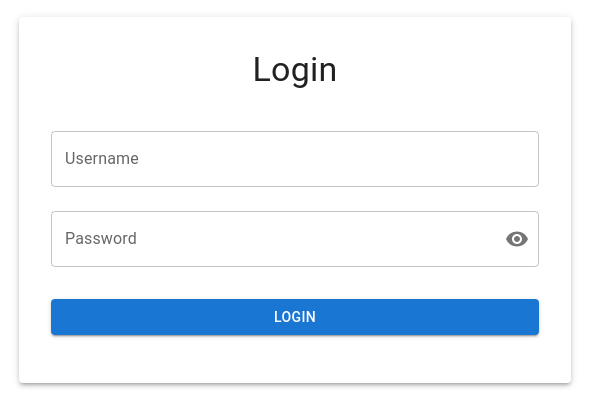
Test case: Login › shows loading state during login
Type "testuser" into the field labelled "Username".
click(295, 159); type("testuser")  # box x1=51 y1=131 x2=539 y2=187
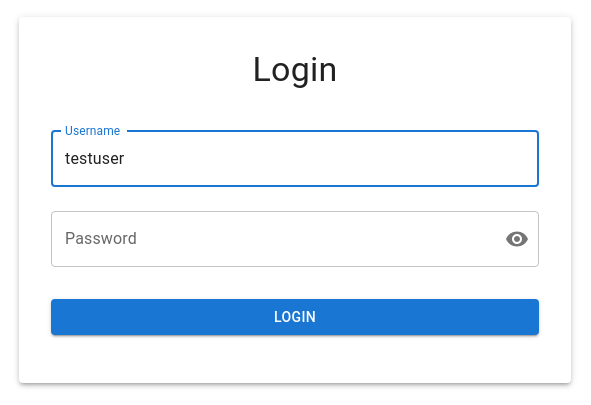
Type "password123" into the password field labelled "Password".
click(270, 239); type("password123")  # box x1=51 y1=211 x2=489 y2=267
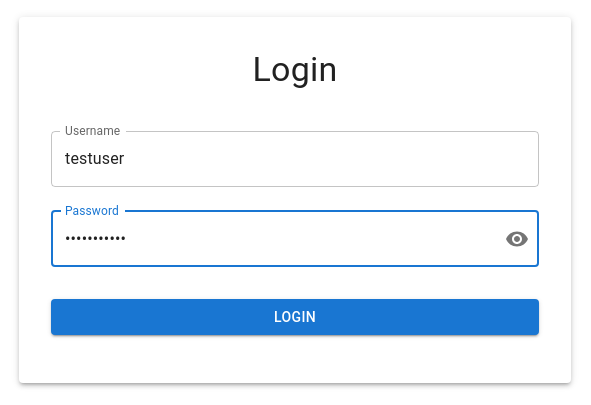
Click the button "Login".
click(295, 317)  # box x1=51 y1=299 x2=539 y2=336
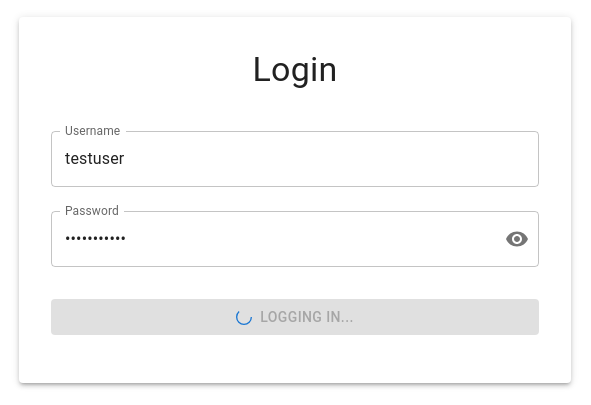
Expected: the button with aria-label "login" is disabled, x1=51 y1=299 x2=539 y2=336
